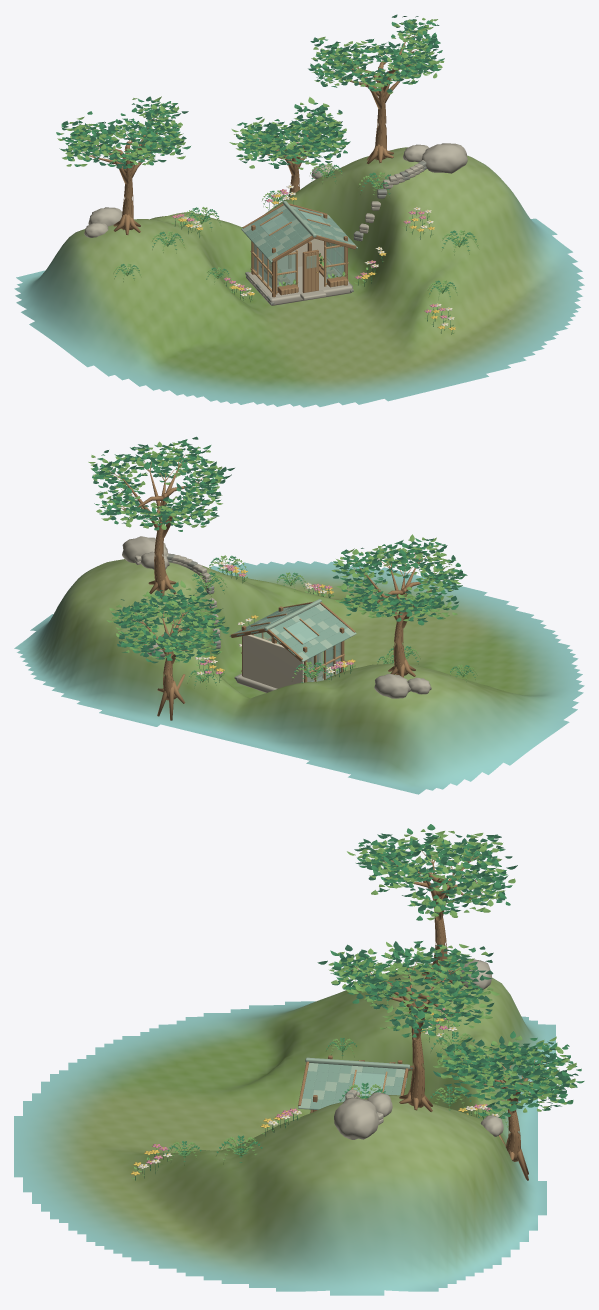
Rendered from grade3-botanical-slope-v2.glb.
3 renders of one model, top to bottom at view 1: azimuth 30°, elevation 25°; view 2: azimuth 150°, elevation 25°; view 3: azimuth 270°, elevation 25°, orthographic. The views are drawn at different scales.
Parts seen in each view (by area): view 1: Walk_Pilot_BotanicalSlope, Pilot_LeafSunlit_Batch, Pilot_LeafEmerald_Batch, Pilot_LeafDeep_Batch, Pilot_HoneyTimber_Batch, Pilot_Limestone_Batch, Pilot_Endgrain_Batch, Pilot_RoofClay_Batch, Pilot_ClearSageGlass_Batch, Pilot_RoofEdge_Batch, Pilot_WarmPlaster_Batch, Pilot_FlowerGold_Batch; view 2: Walk_Pilot_BotanicalSlope, Pilot_LeafSunlit_Batch, Pilot_LeafEmerald_Batch, Pilot_LeafDeep_Batch, Pilot_HoneyTimber_Batch, Pilot_Limestone_Batch, Pilot_WarmPlaster_Batch, Pilot_RoofClay_Batch, Pilot_ClearSageGlass_Batch, Pilot_Endgrain_Batch, Pilot_RoofEdge_Batch; view 3: Walk_Pilot_BotanicalSlope, Pilot_LeafSunlit_Batch, Pilot_LeafEmerald_Batch, Pilot_LeafDeep_Batch, Pilot_HoneyTimber_Batch, Pilot_Limestone_Batch, Pilot_RoofClay_Batch, Pilot_RoofEdge_Batch, Pilot_Endgrain_Batch.
Part boxes in pixels (bbox=[...]): Walk_Pilot_BotanicalSlope: bbox=[14, 147, 584, 407]; Pilot_LeafSunlit_Batch: bbox=[57, 18, 478, 333]; Pilot_LeafEmerald_Batch: bbox=[56, 19, 476, 334]; Pilot_LeafDeep_Batch: bbox=[59, 14, 439, 168]; Pilot_HoneyTimber_Batch: bbox=[97, 42, 405, 297]; Pilot_Limestone_Batch: bbox=[84, 143, 467, 305]; Pilot_Endgrain_Batch: bbox=[80, 30, 420, 294]; Pilot_RoofClay_Batch: bbox=[244, 206, 354, 258]; Pilot_ClearSageGlass_Batch: bbox=[253, 210, 344, 290]; Pilot_RoofEdge_Batch: bbox=[241, 201, 357, 262]; Pilot_WarmPlaster_Batch: bbox=[255, 238, 323, 272]; Pilot_FlowerGold_Batch: bbox=[175, 186, 455, 330]; Walk_Pilot_BotanicalSlope: bbox=[14, 559, 584, 794]; Pilot_LeafSunlit_Batch: bbox=[88, 441, 477, 688]; Pilot_LeafEmerald_Batch: bbox=[92, 439, 475, 685]; Pilot_LeafDeep_Batch: bbox=[93, 436, 462, 663]; Pilot_HoneyTimber_Batch: bbox=[123, 467, 427, 720]; Pilot_Limestone_Batch: bbox=[122, 536, 431, 698]; Pilot_WarmPlaster_Batch: bbox=[242, 634, 303, 688]; Pilot_RoofClay_Batch: bbox=[236, 604, 350, 658]; Pilot_ClearSageGlass_Batch: bbox=[251, 615, 341, 681]; Pilot_Endgrain_Batch: bbox=[108, 454, 438, 690]; Pilot_RoofEdge_Batch: bbox=[229, 599, 356, 661]; Walk_Pilot_BotanicalSlope: bbox=[14, 963, 555, 1295]; Pilot_LeafSunlit_Batch: bbox=[131, 829, 576, 1178]; Pilot_LeafEmerald_Batch: bbox=[135, 824, 584, 1180]; Pilot_LeafDeep_Batch: bbox=[317, 833, 578, 1115]; Pilot_HoneyTimber_Batch: bbox=[298, 863, 533, 1180]; Pilot_Limestone_Batch: bbox=[334, 958, 503, 1139]; Pilot_RoofClay_Batch: bbox=[302, 1063, 412, 1109]; Pilot_RoofEdge_Batch: bbox=[298, 1057, 410, 1109]; Pilot_Endgrain_Batch: bbox=[310, 848, 550, 1152].
Size of the model in its own units: 24.64 by 10.13 by 20.23.
